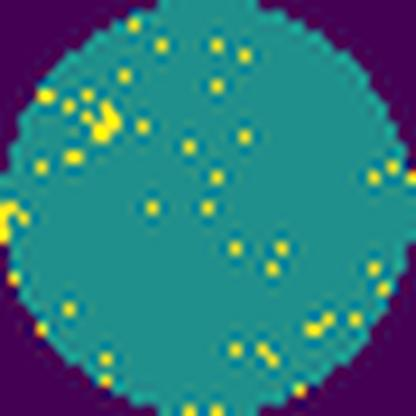Loc: (85, 95, 125, 144)
